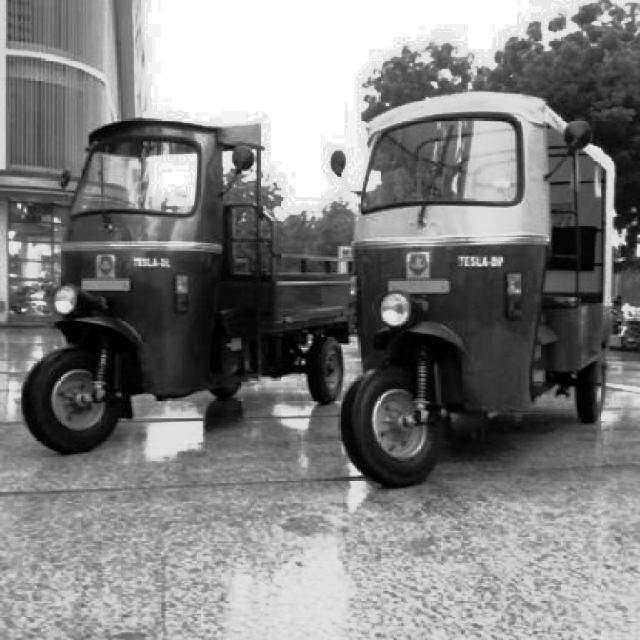Auto-Rickshaw: (326, 95, 617, 491), (20, 120, 342, 458)
